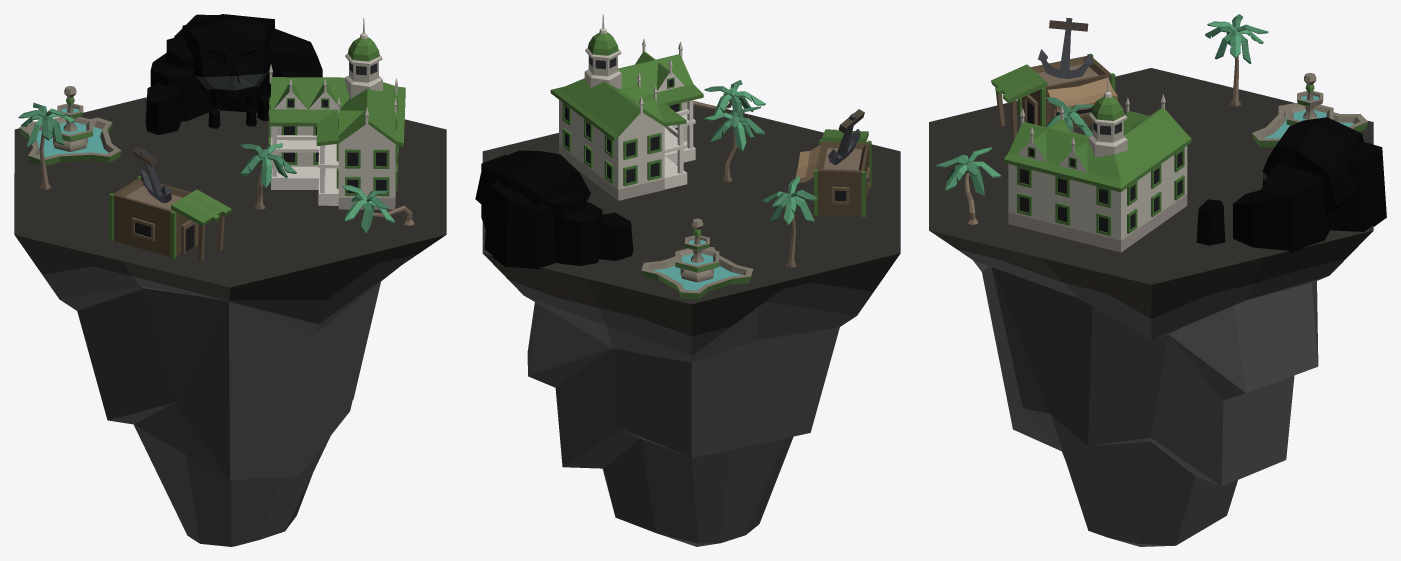
Rendered from hextile.glb.
The picture shows the model from 3 angles, left to right: view 1: azimuth 30°, elevation 25°; view 2: azimuth 150°, elevation 25°; view 3: azimuth 270°, elevation 25°; orthographic projection. The views are drawn at different scales.
Parts seen in each view (by area): view 1: SM_Tile_Hex_FloatingIsland_01, SM_Bld_Pirate_Mansion_01, SM_Env_Pirate_SkullRock_01, SM_Bld_Pirate_Shack_01, SM_Bld_Pirates_Fountain_01, SM_Env_Pirate_Palm_01, SM_Env_Pirate_Palm_03, SM_Env_Pirate_Palm_02; view 2: SM_Tile_Hex_FloatingIsland_01, SM_Bld_Pirate_Mansion_01, SM_Env_Pirate_SkullRock_01, SM_Bld_Pirate_Shack_01, SM_Bld_Pirates_Fountain_01, SM_Env_Pirate_Palm_01, SM_Env_Pirate_Palm_02, SM_Env_Pirate_Palm_03; view 3: SM_Tile_Hex_FloatingIsland_01, SM_Bld_Pirate_Mansion_01, SM_Env_Pirate_SkullRock_01, SM_Bld_Pirate_Shack_01, SM_Bld_Pirates_Fountain_01, SM_Env_Pirate_Palm_01, SM_Env_Pirate_Palm_03, SM_Env_Pirate_Palm_02.
Boxes of the visible parts, x1=… form: SM_Tile_Hex_FloatingIsland_01: x1=14, y1=97, x2=446, y2=546; SM_Bld_Pirate_Mansion_01: x1=268, y1=18, x2=405, y2=209; SM_Env_Pirate_SkullRock_01: x1=145, y1=14, x2=322, y2=134; SM_Bld_Pirate_Shack_01: x1=109, y1=147, x2=231, y2=261; SM_Bld_Pirates_Fountain_01: x1=19, y1=86, x2=121, y2=165; SM_Env_Pirate_Palm_01: x1=18, y1=102, x2=75, y2=189; SM_Env_Pirate_Palm_03: x1=342, y1=185, x2=414, y2=233; SM_Env_Pirate_Palm_02: x1=240, y1=143, x2=296, y2=209; SM_Tile_Hex_FloatingIsland_01: x1=482, y1=101, x2=900, y2=546; SM_Bld_Pirate_Mansion_01: x1=550, y1=14, x2=703, y2=200; SM_Env_Pirate_SkullRock_01: x1=475, y1=150, x2=633, y2=269; SM_Bld_Pirate_Shack_01: x1=795, y1=109, x2=871, y2=217; SM_Bld_Pirates_Fountain_01: x1=641, y1=218, x2=753, y2=299; SM_Env_Pirate_Palm_01: x1=762, y1=176, x2=817, y2=267; SM_Env_Pirate_Palm_02: x1=704, y1=106, x2=764, y2=182; SM_Env_Pirate_Palm_03: x1=693, y1=79, x2=765, y2=120; SM_Tile_Hex_FloatingIsland_01: x1=929, y1=68, x2=1373, y2=546; SM_Bld_Pirate_Mansion_01: x1=1003, y1=76, x2=1191, y2=252; SM_Env_Pirate_SkullRock_01: x1=1196, y1=117, x2=1386, y2=252; SM_Bld_Pirate_Shack_01: x1=991, y1=17, x2=1117, y2=138; SM_Bld_Pirates_Fountain_01: x1=1252, y1=73, x2=1367, y2=147; SM_Env_Pirate_Palm_01: x1=1205, y1=14, x2=1268, y2=106; SM_Env_Pirate_Palm_03: x1=936, y1=147, x2=1000, y2=224; SM_Env_Pirate_Palm_02: x1=1045, y1=97, x2=1093, y2=136.
Size of what is drawn, in the model's own units: 5.77 by 6.54 by 5.15.
Materials: 1 (1 with a texture image).
